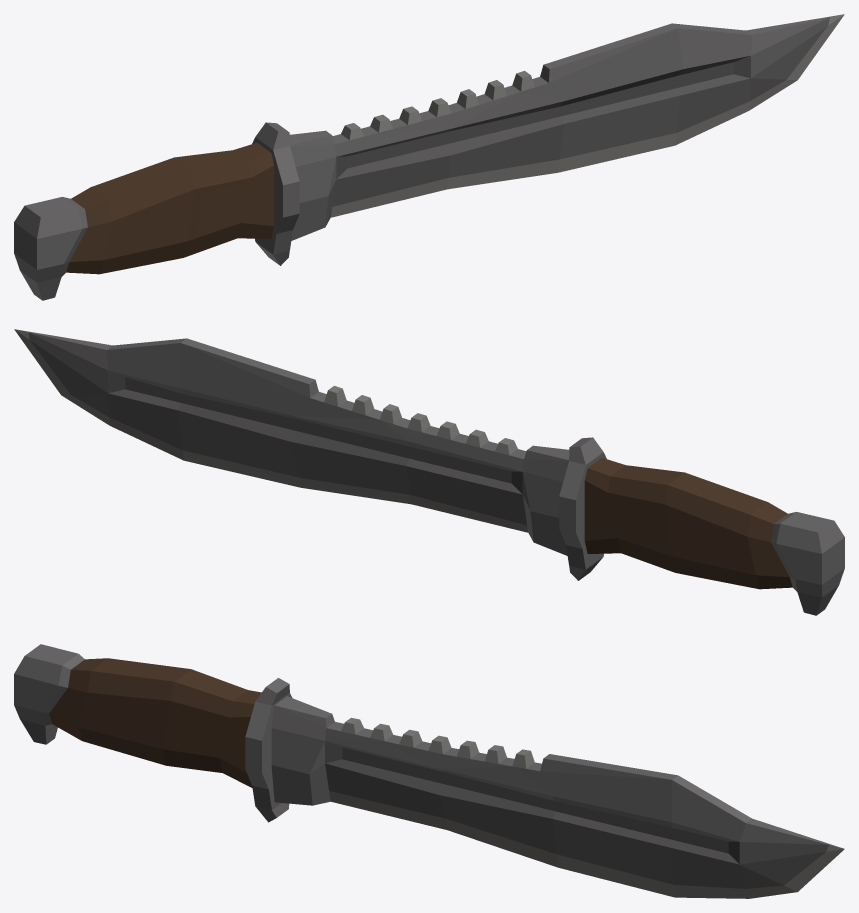
The model's file is apoc_SM_Wep_Melee_HuntingKnife_01.gltf.
3 renders of one model, top to bottom at view 1: azimuth 30°, elevation 25°; view 2: azimuth 150°, elevation 25°; view 3: azimuth 330°, elevation 25°, orthographic.
Parts seen in each view (by area): view 1: SM_Wep_Melee_HuntingKnife_01; view 2: SM_Wep_Melee_HuntingKnife_01; view 3: SM_Wep_Melee_HuntingKnife_01.
Boxes of the visible parts, x1,y1,x2,y2 form: SM_Wep_Melee_HuntingKnife_01: (14, 14, 844, 300); SM_Wep_Melee_HuntingKnife_01: (14, 329, 844, 615); SM_Wep_Melee_HuntingKnife_01: (14, 644, 844, 898).
Bounding box in the file's own units: 0.3922 × 0.0632 × 0.0312.
1 material, 1 textured.
